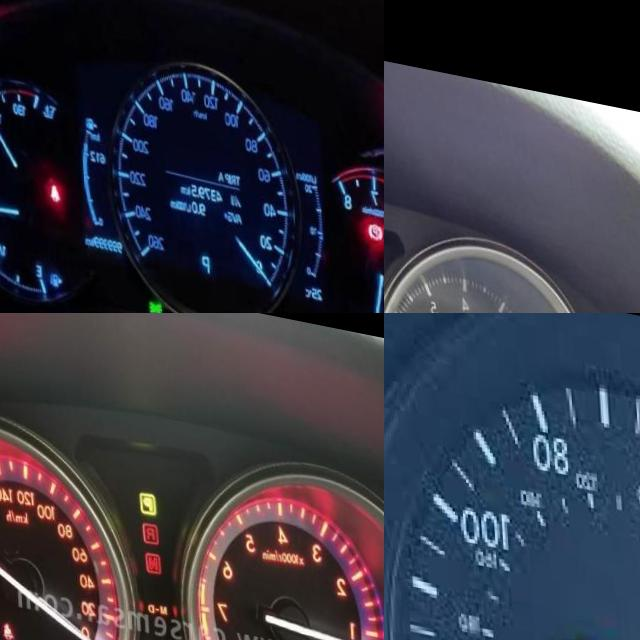Seat Belt: (44, 176, 58, 201), (0, 616, 10, 637)
